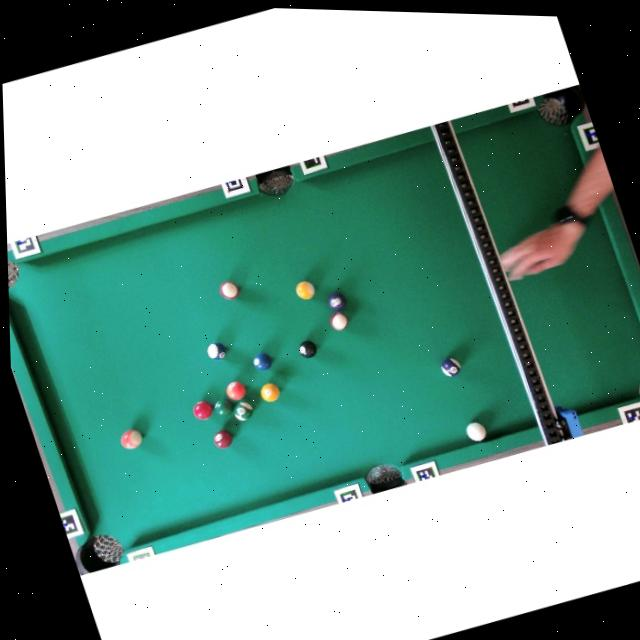cue ball: (464, 418, 489, 444)
other: (117, 426, 145, 451), (190, 398, 216, 423), (230, 399, 255, 423), (438, 355, 463, 379), (293, 277, 317, 301), (224, 378, 248, 402), (217, 278, 242, 301), (250, 350, 274, 373), (325, 289, 348, 313), (211, 427, 235, 450), (258, 380, 281, 404), (211, 395, 235, 418), (327, 309, 350, 332), (205, 339, 229, 361), (296, 337, 318, 360)
